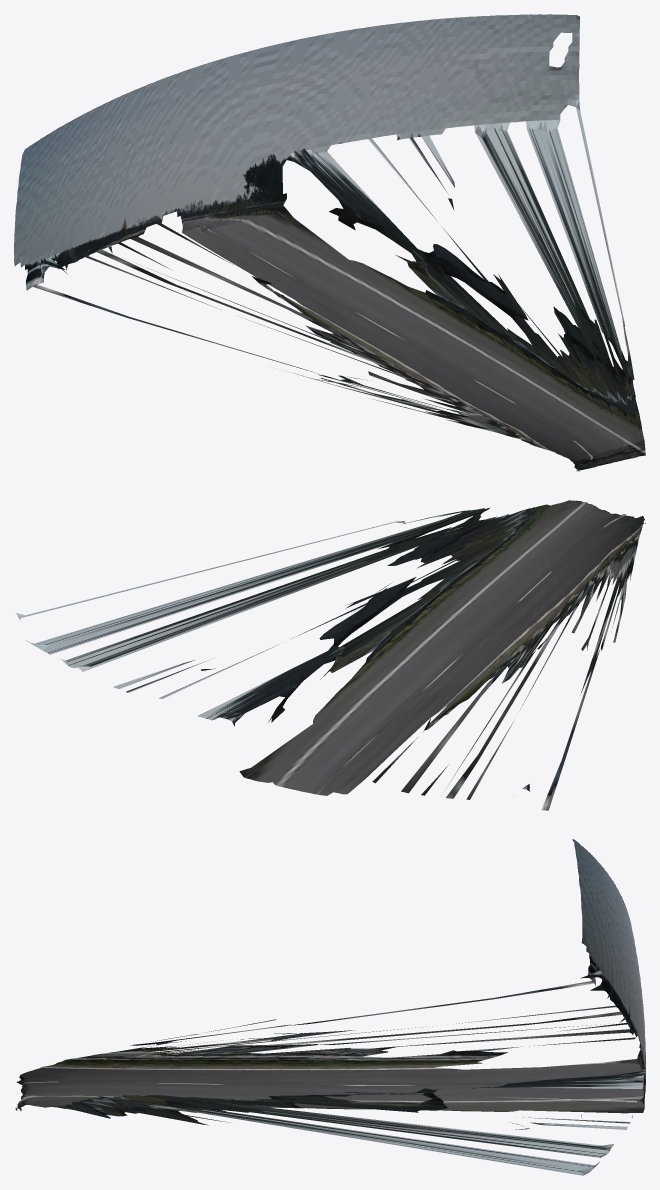
The picture shows the model from 3 angles, top to bottom: view 1: azimuth 30°, elevation 25°; view 2: azimuth 150°, elevation 25°; view 3: azimuth 270°, elevation 25°; orthographic projection. The views are drawn at different scales.
Visible parts, largest first — view 1: defaultobject; view 2: defaultobject; view 3: defaultobject.
Part boxes in pixels (x1,y1,x2,y2): defaultobject: (14, 14, 645, 471); defaultobject: (16, 500, 645, 810); defaultobject: (15, 839, 645, 1175).
Size of the model in its own units: 41.09 by 12.09 by 44.56.
Materials: 1 (1 with a texture image).
